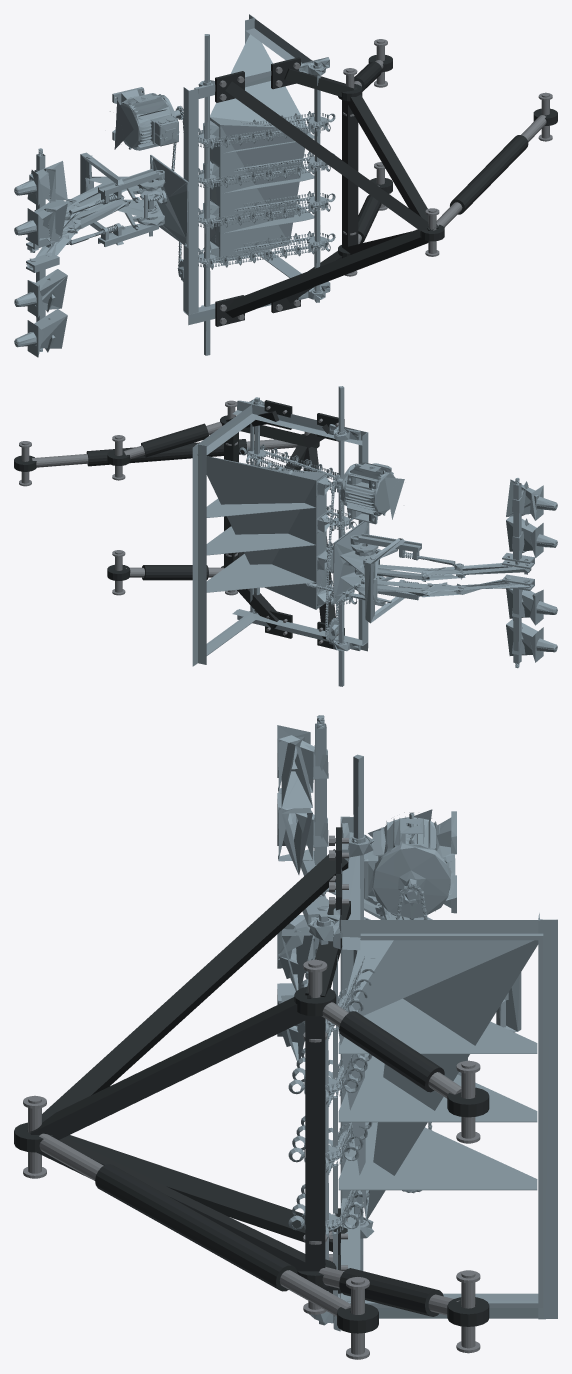
File: implement_garlic_planter_visual.obj
3 views of the same model, one above another, from view 1: azimuth 30°, elevation 25°; view 2: azimuth 150°, elevation 25°; view 3: azimuth 270°, elevation 25° (orthographic). The views are drawn at different scales.
Parts seen in each view (by area): view 1: solid_292, hitch_receiver_member_6, solid_865, hitch_receiver_member_5, hitch_receiver_member_1, solid_98, hitch_receiver_member_0, solid_8, solid_2545, hitch_top_link_sleeve, solid_2544, solid_867 (+22 smaller); view 2: solid_292, solid_869, solid_98, solid_299, solid_848, solid_2545, solid_8, hitch_top_link_sleeve, solid_866, solid_849, hitch_lower_left_sleeve, solid_27 (+20 smaller); view 3: solid_292, hitch_receiver_member_5, hitch_receiver_member_1, solid_299, solid_869, hitch_top_link_sleeve, hitch_receiver_member_0, solid_848, hitch_receiver_member_6, solid_849, solid_293, solid_97 (+26 smaller).
Part boxes in pixels (x1,y1,x2,y2): solid_292: (210, 34, 308, 263); hitch_receiver_member_6: (225, 229, 428, 317); solid_865: (183, 87, 198, 314); hitch_receiver_member_5: (225, 81, 433, 231); hitch_receiver_member_1: (347, 87, 438, 230); solid_98: (112, 87, 172, 150); hitch_receiver_member_0: (342, 100, 358, 251); solid_8: (150, 155, 188, 248); solid_2545: (204, 34, 210, 355); hitch_top_link_sleeve: (450, 135, 528, 214); solid_2544: (314, 60, 320, 302); solid_867: (245, 19, 312, 63); solid_292: (197, 454, 326, 609); solid_869: (192, 443, 206, 666); solid_98: (343, 462, 395, 524); solid_299: (206, 554, 315, 592); solid_848: (206, 526, 315, 555); solid_2545: (338, 386, 344, 686); solid_8: (333, 521, 369, 604); hitch_top_link_sleeve: (86, 439, 246, 466); solid_866: (232, 401, 362, 445); solid_849: (206, 498, 315, 517); hitch_lower_left_sleeve: (141, 423, 208, 457); solid_27: (364, 538, 405, 623); solid_292: (338, 940, 538, 1220); hitch_receiver_member_5: (42, 849, 348, 1122); hitch_receiver_member_1: (30, 995, 311, 1140); solid_299: (338, 1122, 537, 1190); solid_869: (538, 913, 557, 1319); hitch_top_link_sleeve: (95, 1164, 297, 1291); hitch_receiver_member_0: (305, 1015, 325, 1271); solid_848: (338, 1054, 537, 1122); hitch_receiver_member_6: (65, 1135, 347, 1251); solid_849: (338, 998, 537, 1053); solid_293: (360, 933, 543, 1307); solid_97: (372, 843, 451, 918).
Bounding box in the file's own units: 2.2 × 1.2 × 1.09.
